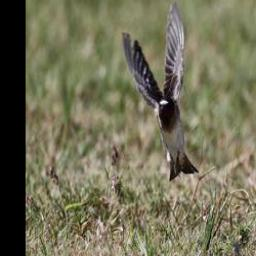Swallow: (122, 0, 198, 180)
